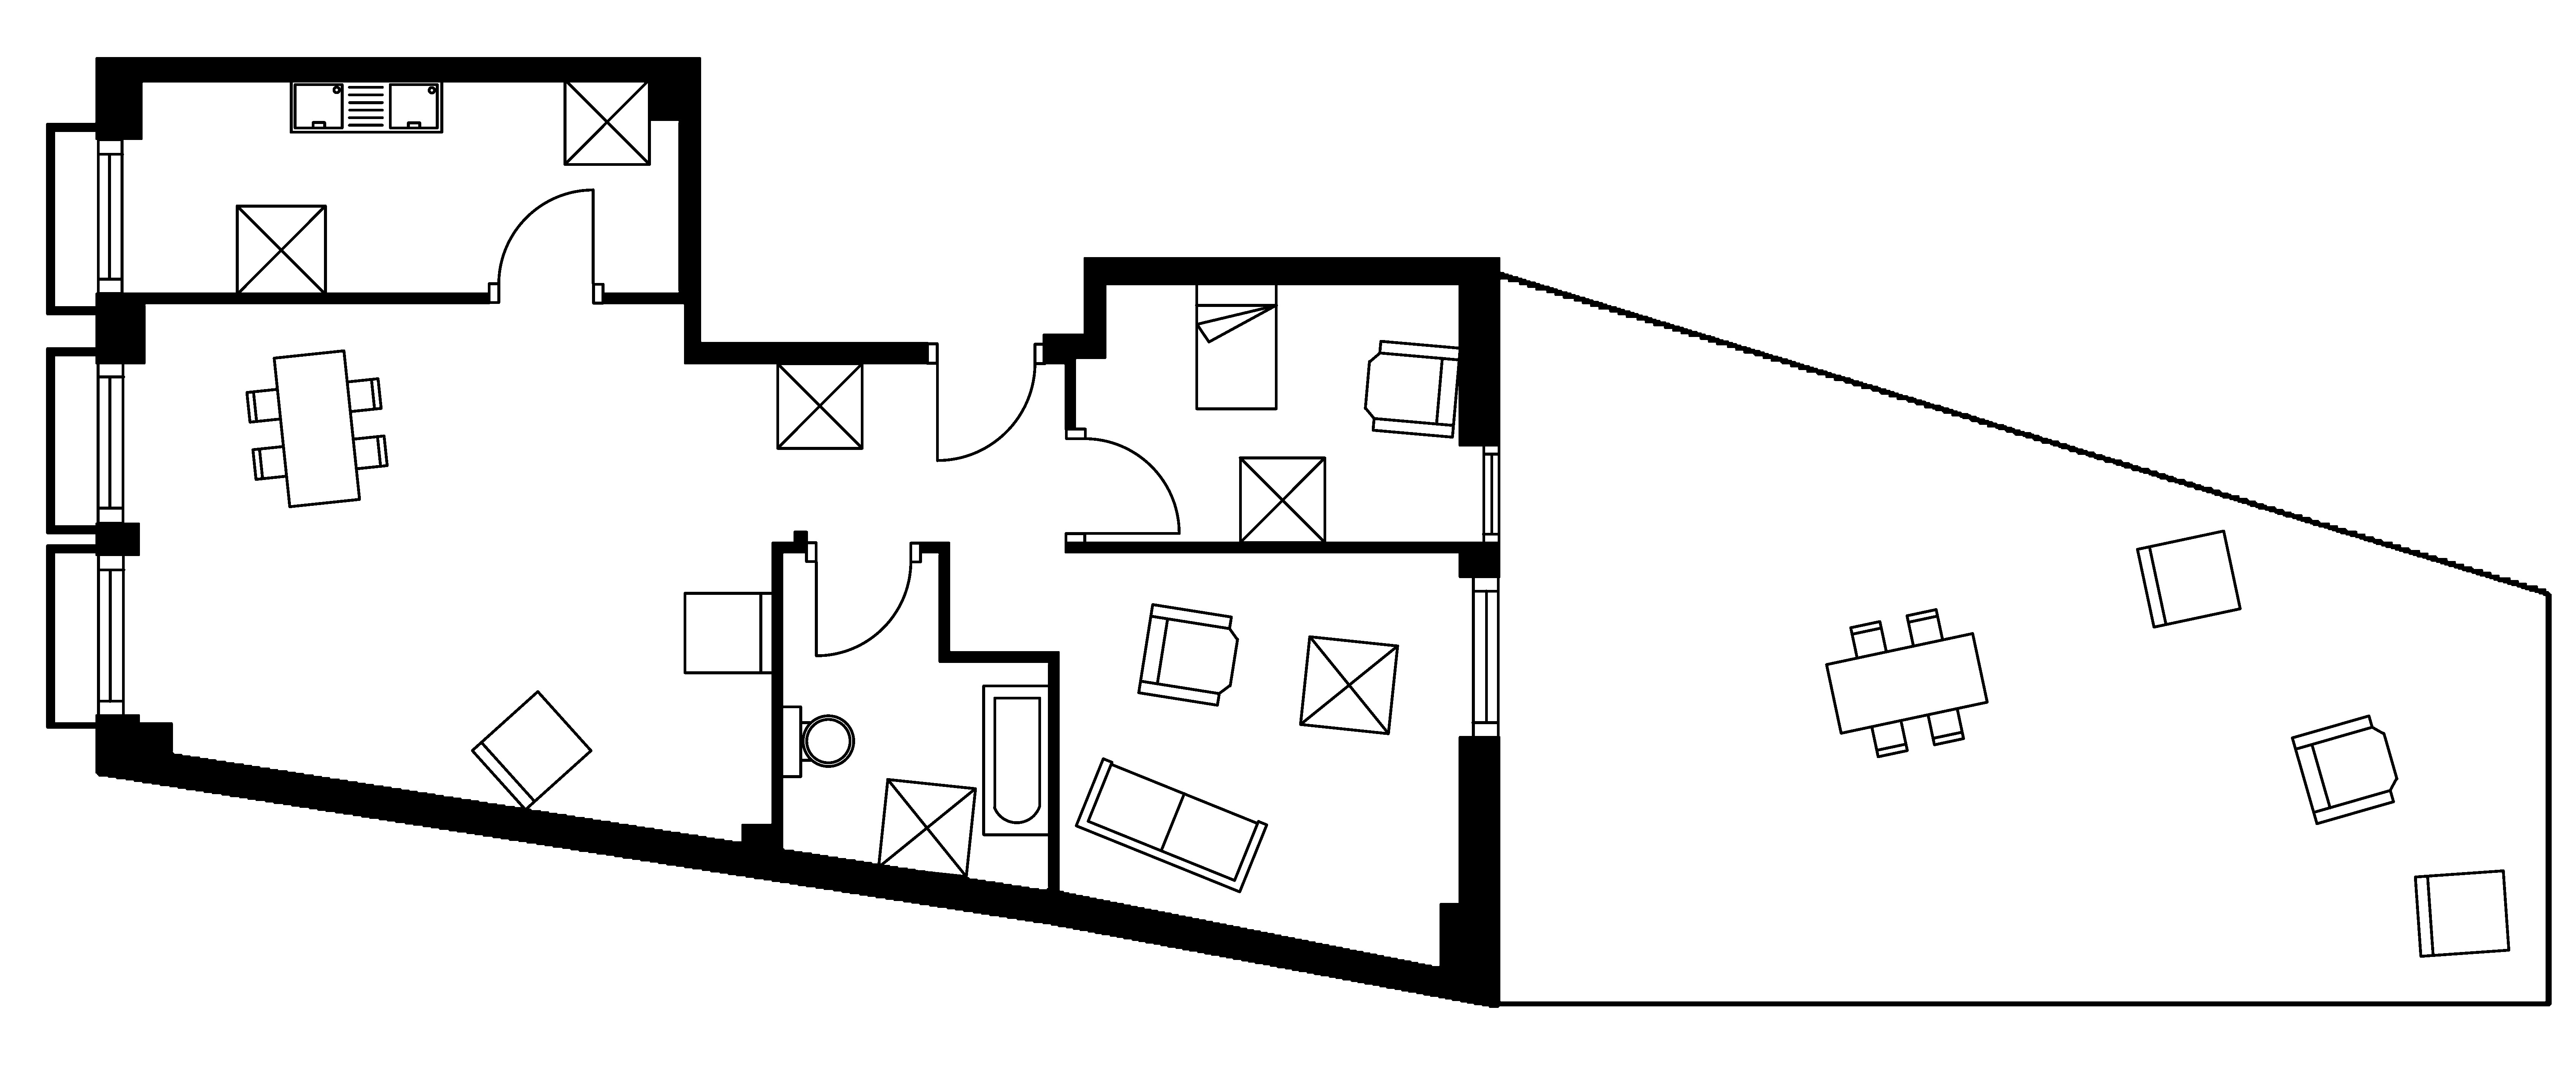armchair: (2290, 714, 2399, 826), (1137, 602, 1239, 707), (1364, 339, 1462, 439)
bed: (1194, 281, 1278, 411)
coffee_table: (1298, 635, 1400, 735), (876, 778, 977, 878), (235, 204, 327, 296), (562, 77, 651, 166), (775, 362, 864, 451), (1239, 456, 1326, 544)
dining_table: (1824, 607, 1989, 758), (245, 349, 389, 508)
large_sink: (780, 705, 854, 778)
large_sofa: (1074, 756, 1268, 893)
small_sofa: (470, 689, 593, 811), (2136, 528, 2242, 628), (2413, 868, 2510, 959), (682, 590, 774, 674)
tub: (981, 684, 1051, 837)
twin_sink: (289, 77, 444, 133)
